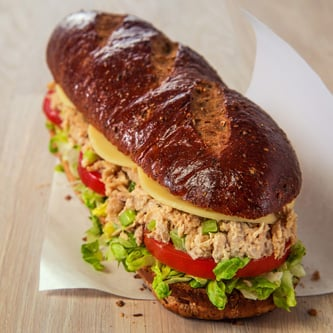soup: (40, 11, 303, 322)
